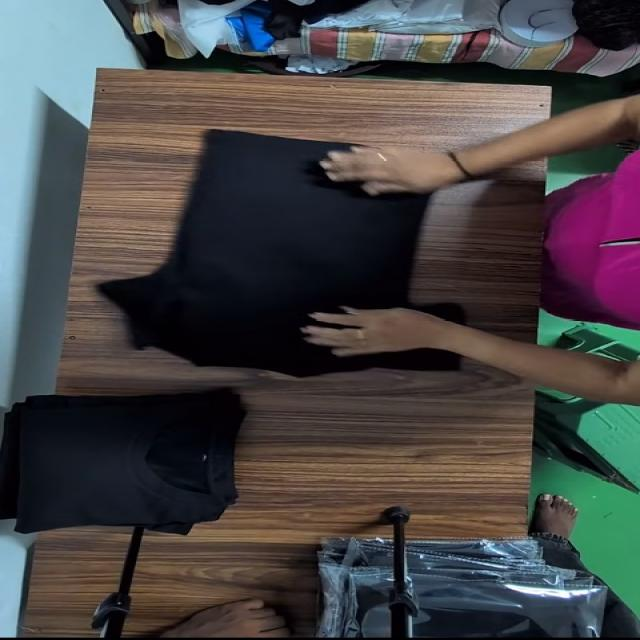new-garment: (100, 130, 456, 376)
